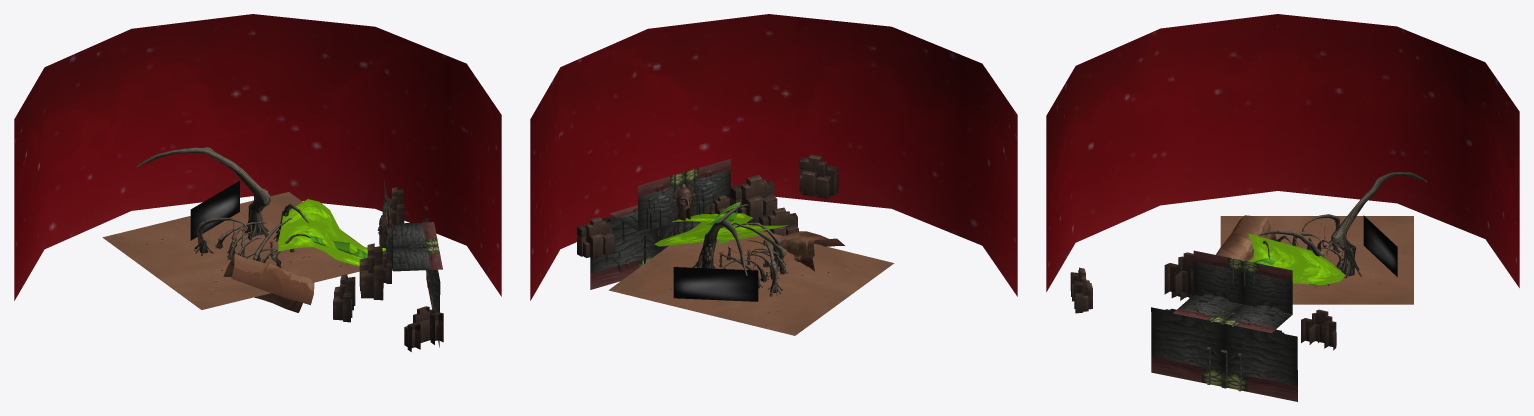
The model's file is env_dath_forest_temple_pre.glb.
3 renders of one model, left to right at view 1: azimuth 30°, elevation 25°; view 2: azimuth 150°, elevation 25°; view 3: azimuth 270°, elevation 25°, orthographic. The views are drawn at different scales.
Parts seen in each view (by area): view 1: skybox_02_mesh, ground_plane, dath_wall_01b_mesh (×3), dath_wall_01a_mesh (×3), vfx_smoke_light, tat_rockface_01a_mesh, dath_tree_03_mesh (1), fogplane_01_mesh, dath_wall_01b_mesh (1), dath_tree_04_mesh; view 2: skybox_02_mesh, ground_plane, dath_wall_01a_mesh (×2), dath_wall_01b_mesh (×3), fogplane_01_mesh, vfx_smoke_light, dath_wall_01b_mesh (1), tat_rockface_01a_mesh, dath_tree_03_mesh (1), dath_face_statue_mesh; view 3: skybox_02_mesh, dath_wall_01a_mesh (×3), ground_plane, vfx_smoke_light, dath_wall_01b_mesh (×2), tat_rockface_01a_mesh, dath_tree_03_mesh (1), fogplane_01_mesh, dath_wall_01b_mesh (1).
Part boxes in pixels (bbox=[...]): skybox_02_mesh: bbox=[14, 14, 501, 300]; ground_plane: bbox=[102, 192, 360, 309]; dath_wall_01b_mesh (×3): bbox=[333, 243, 443, 351]; dath_wall_01a_mesh (×3): bbox=[381, 180, 442, 347]; vfx_smoke_light: bbox=[278, 199, 385, 266]; tat_rockface_01a_mesh: bbox=[223, 253, 314, 312]; dath_tree_03_mesh (1): bbox=[136, 147, 270, 237]; fogplane_01_mesh: bbox=[190, 180, 239, 240]; dath_wall_01b_mesh (1): bbox=[389, 187, 404, 223]; dath_tree_04_mesh: bbox=[194, 217, 247, 255]; skybox_02_mesh: bbox=[530, 14, 1017, 300]; ground_plane: bbox=[608, 223, 894, 335]; dath_wall_01a_mesh (×2): bbox=[590, 158, 730, 289]; dath_wall_01b_mesh (×3): bbox=[730, 154, 838, 235]; fogplane_01_mesh: bbox=[673, 267, 758, 301]; vfx_smoke_light: bbox=[654, 213, 788, 246]; dath_wall_01b_mesh (1): bbox=[577, 217, 614, 258]; tat_rockface_01a_mesh: bbox=[777, 231, 844, 271]; dath_tree_03_mesh (1): bbox=[701, 219, 747, 275]; dath_face_statue_mesh: bbox=[670, 184, 697, 220]; skybox_02_mesh: bbox=[1046, 14, 1519, 291]; dath_wall_01a_mesh (×3): bbox=[1151, 250, 1297, 401]; ground_plane: bbox=[1220, 216, 1413, 304]; vfx_smoke_light: bbox=[1248, 233, 1345, 285]; dath_wall_01b_mesh (×2): bbox=[1070, 252, 1193, 313]; tat_rockface_01a_mesh: bbox=[1216, 215, 1276, 261]; dath_tree_03_mesh (1): bbox=[1331, 172, 1427, 278]; fogplane_01_mesh: bbox=[1363, 215, 1397, 276]; dath_wall_01b_mesh (1): bbox=[1301, 309, 1336, 350].
Size of the model in its own units: 154 by 73.16 by 154.
13 materials, 13 textured.
